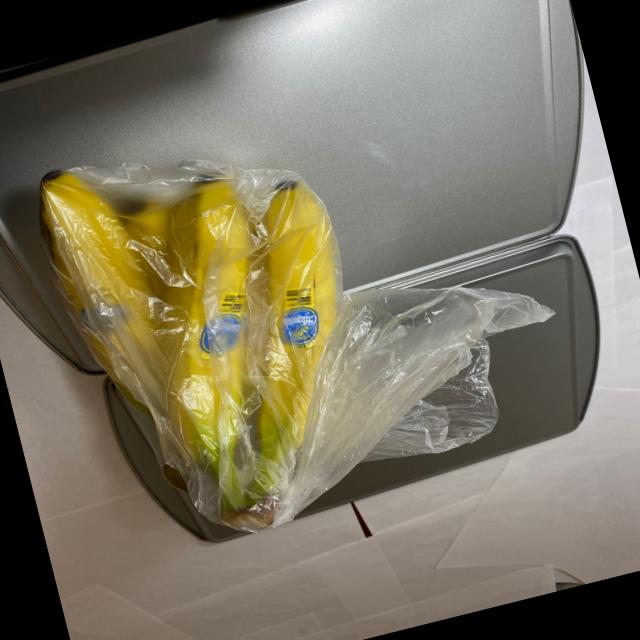banana: (23, 104, 420, 566)
